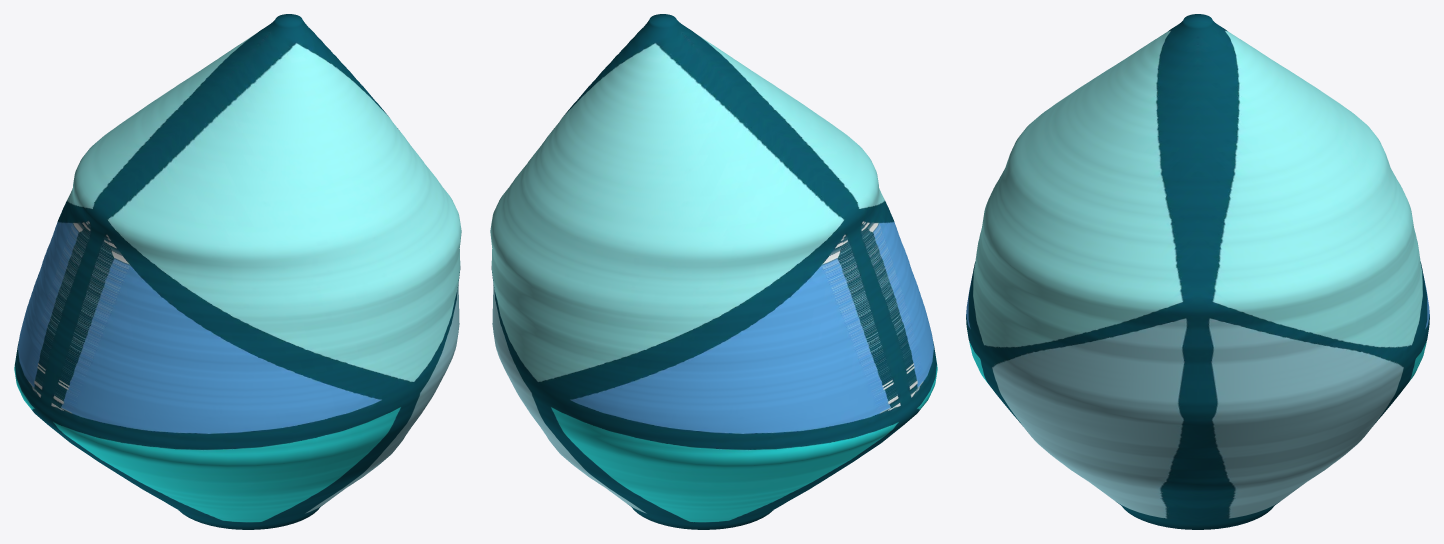
The model's file is rim_ice_boulder.glb.
The picture shows the model from 3 angles, left to right: view 1: azimuth 30°, elevation 25°; view 2: azimuth 150°, elevation 25°; view 3: azimuth 270°, elevation 25°; orthographic projection. The views are drawn at different scales.
Visible parts, largest first — view 1: rim_ice_boulder; view 2: rim_ice_boulder; view 3: rim_ice_boulder.
Part boxes in pixels (bbox=[...]): rim_ice_boulder: bbox=[14, 14, 461, 529]; rim_ice_boulder: bbox=[490, 14, 937, 529]; rim_ice_boulder: bbox=[966, 14, 1429, 529].
Size of the model in its own units: 0.997 by 1.14 by 0.9643.
Materials: 1 (1 with a texture image).
